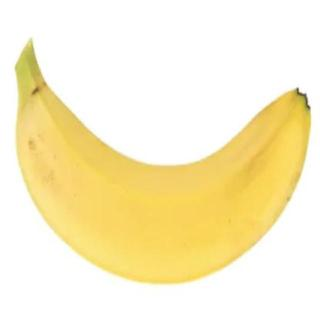banana: (16, 80, 311, 287)
